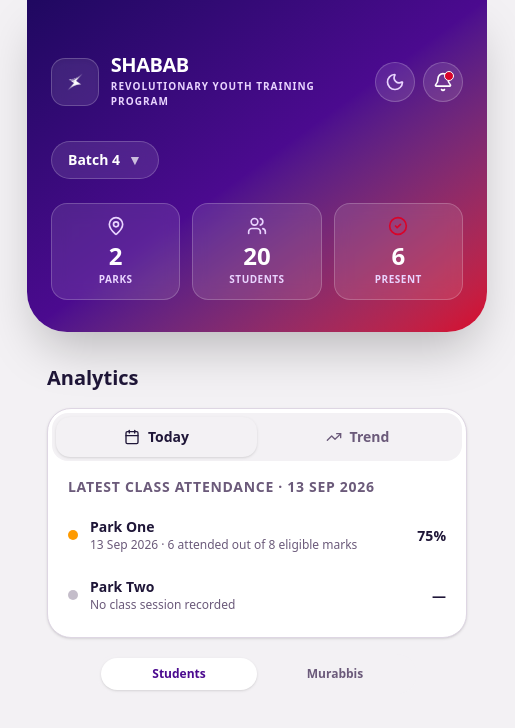
Test: MobileHomeDashboard › states when only part of the period has recorded sessions
The width and height of the screenshot is (515, 728).
Click the button "Trend".
click(358, 437)  # box 257,417 -> 458,457
(page scrolled)
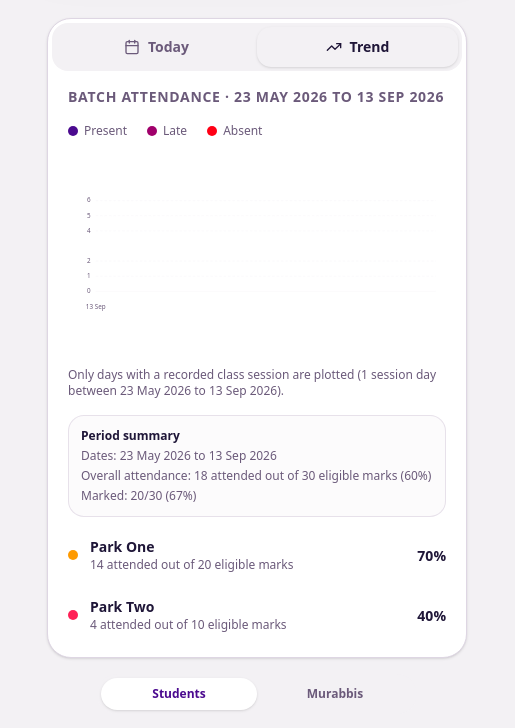
Expected: the text "Only days with a recorded class session are plotted (1 session day between 23 May 2026 to 13 Sep 2026)." is shown, 68,366 -> 436,399
